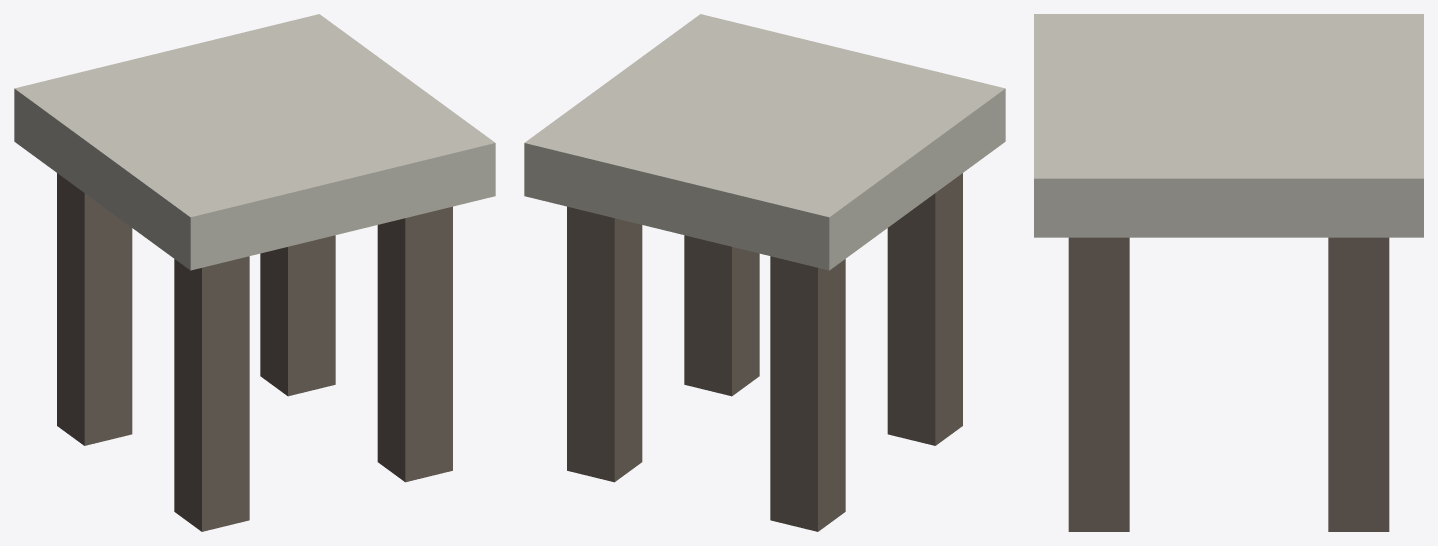
File: stool_kitchen.glb
3 renders of one model, left to right at view 1: azimuth 30°, elevation 25°; view 2: azimuth 150°, elevation 25°; view 3: azimuth 270°, elevation 25°, orthographic. The views are drawn at different scales.
Parts seen in each view (by area): view 1: body; view 2: body; view 3: body.
Part boxes in pixels (x1,y1,x2,y2): body: [14, 14, 495, 531]; body: [524, 14, 1005, 531]; body: [1034, 14, 1423, 531].
Size of the model in its own units: 0.48 by 0.5 by 0.48.
